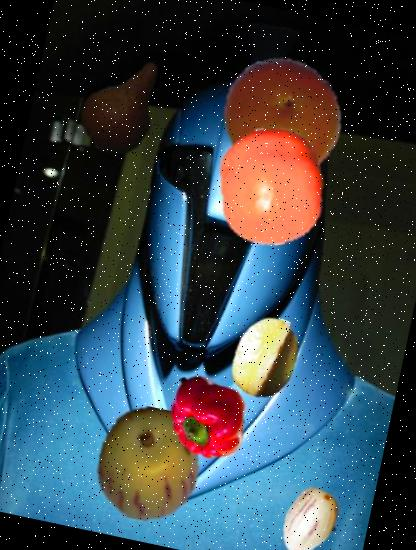Carambula: (216, 308, 314, 406)
Clementine: (202, 117, 342, 256)
Pear: (63, 43, 188, 168)
Pepino: (80, 397, 214, 531), (267, 480, 354, 550)
Pepper: (155, 362, 262, 470)
Tangelo: (210, 45, 355, 190)
